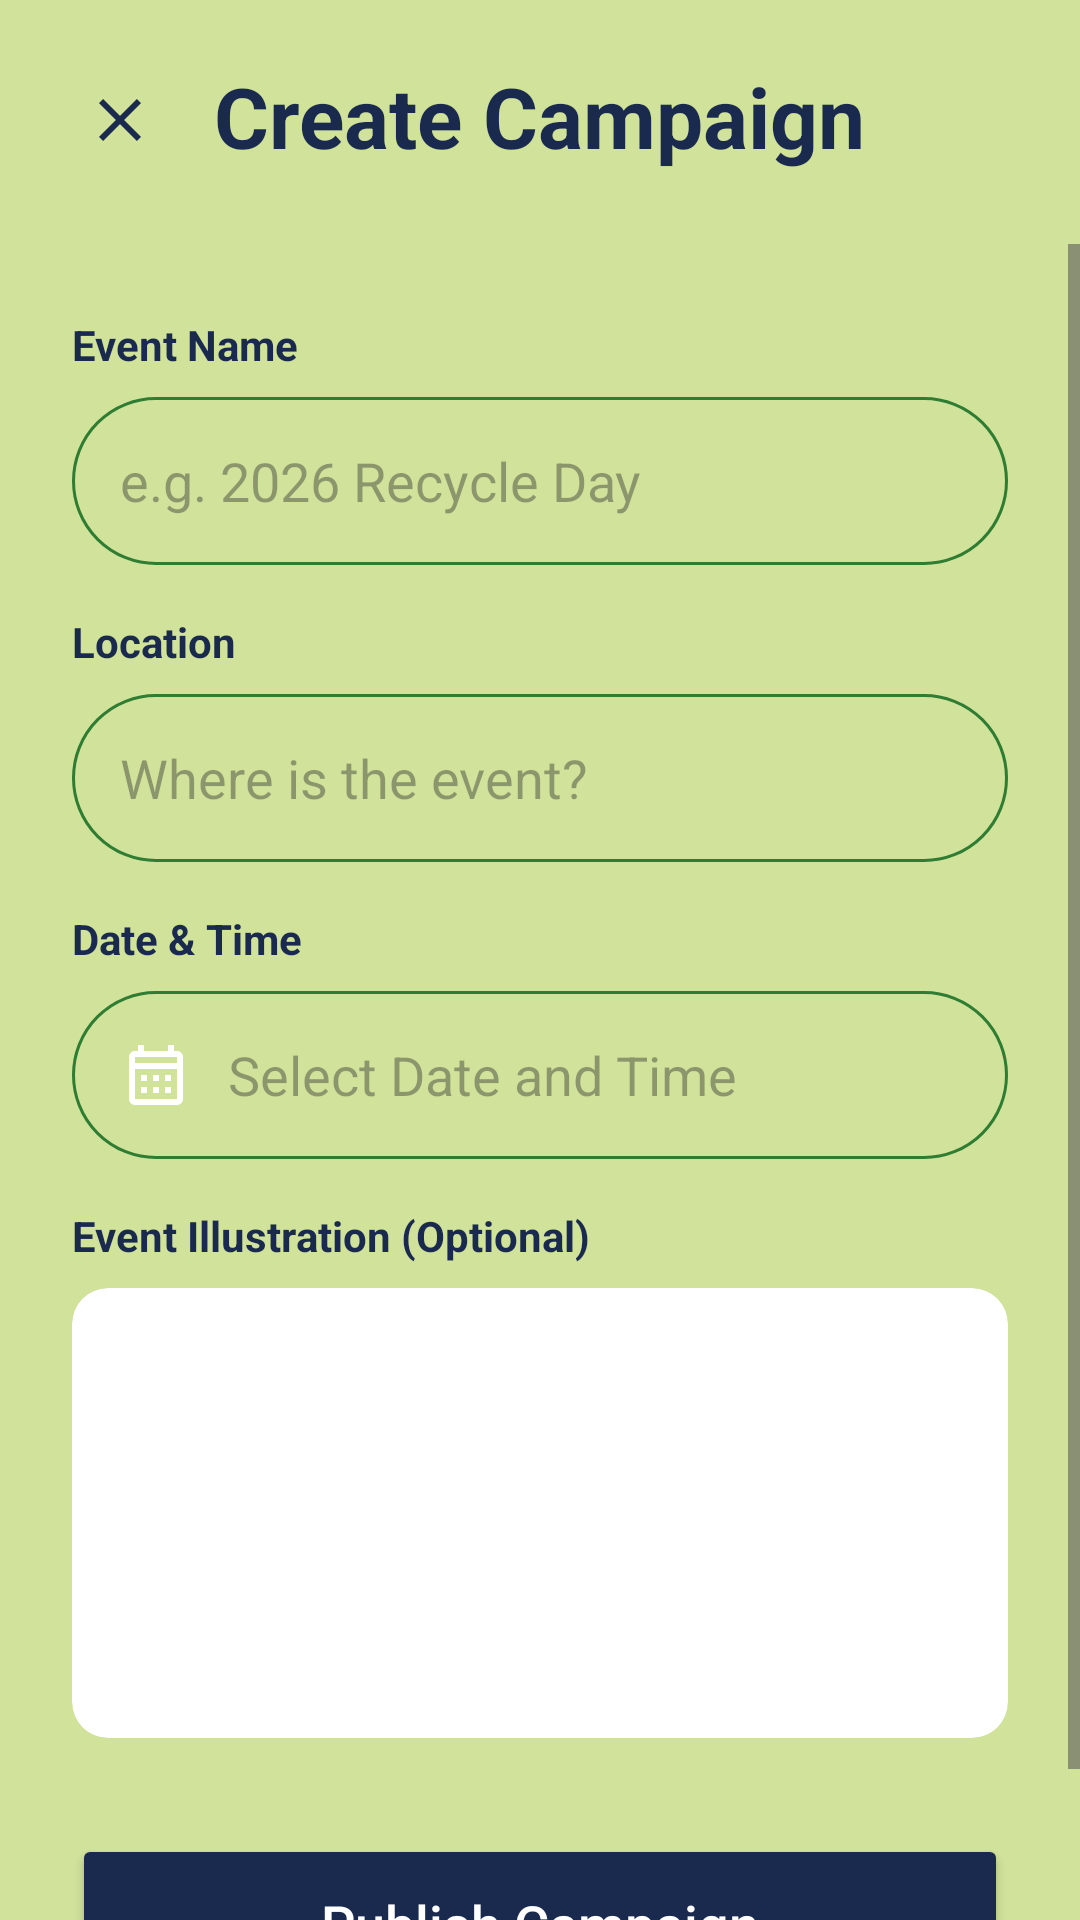

Named icons in this screenshot (1080 x 1920) and their centers, (x,y):
close: (120,120)
